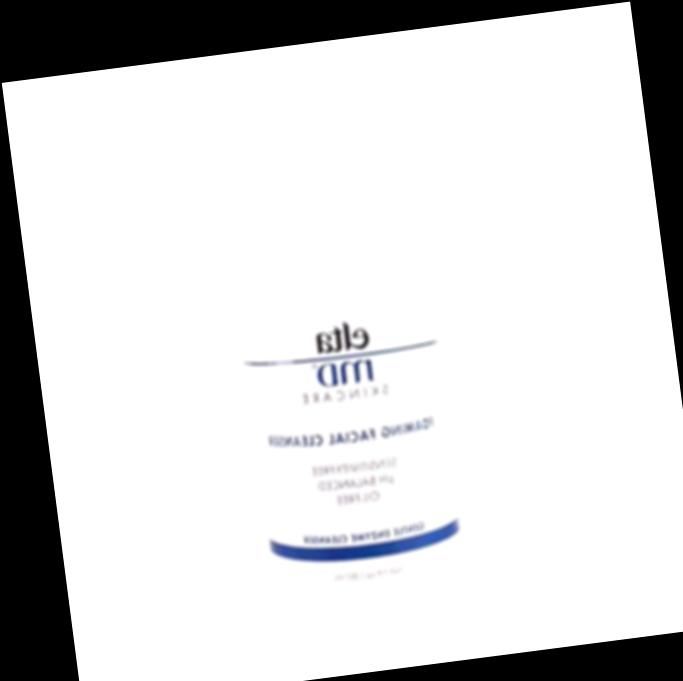cosmetic: (209, 85, 465, 630)
